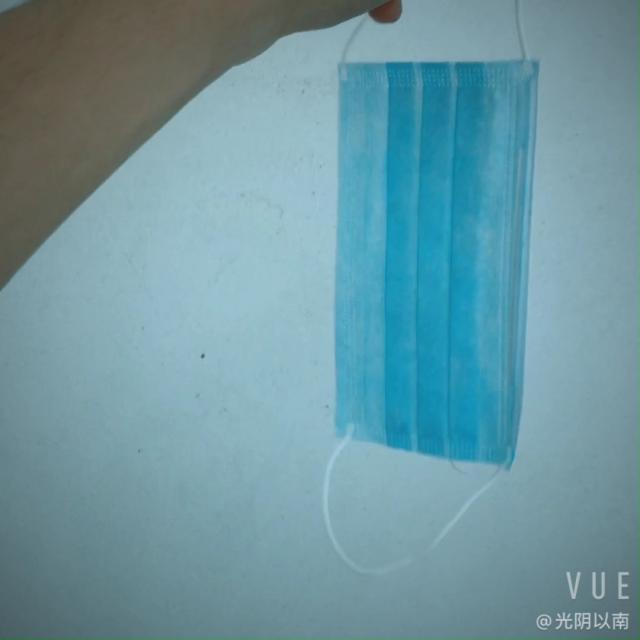face mask: (295, 34, 549, 483)
